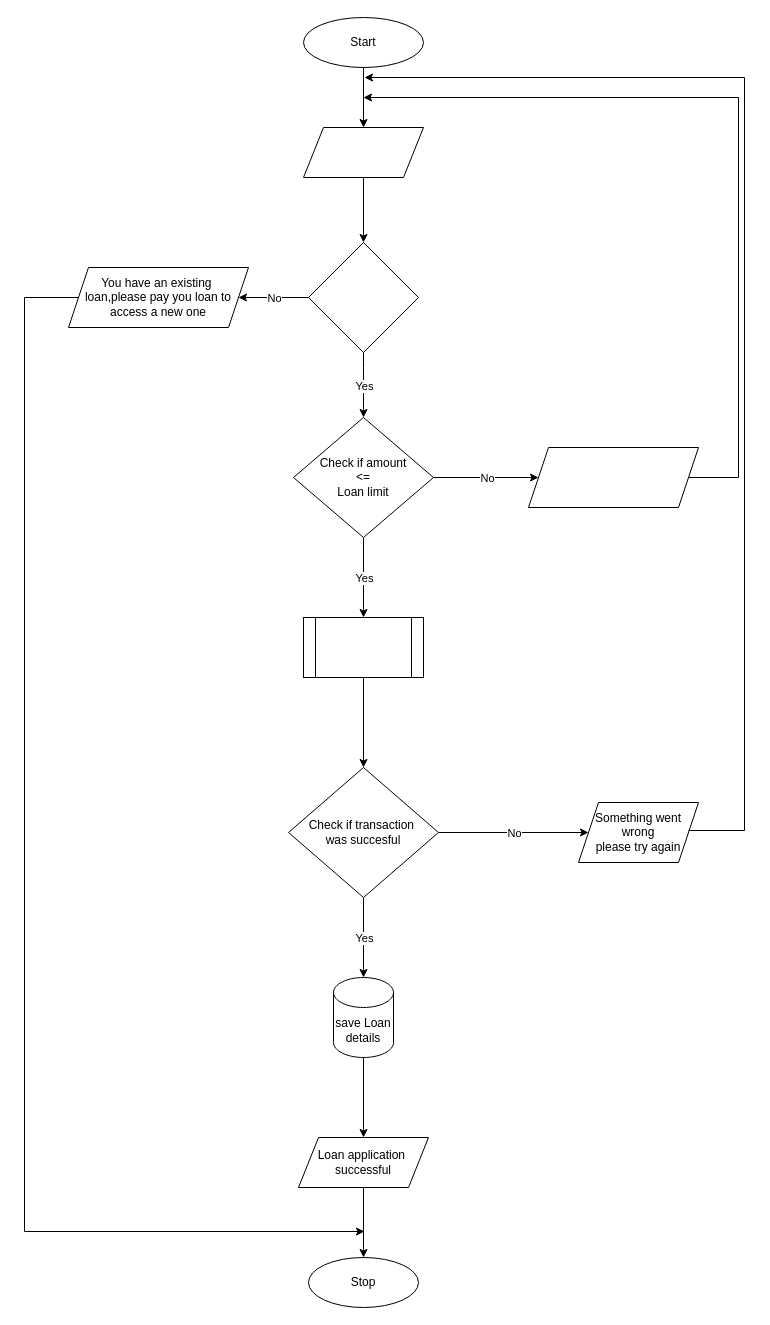
This 770x1325 diagram has some shape labels left out. Here are the shapes that lost their labels. From the top down, the centre of each, then its label:
pixel 363 152: Enter amount
pixel 363 297: Check if user has existing loan
pixel 613 477: Please enter an amount less than or equal to yourloan limit
pixel 363 647: Process transaction and transfer loan to users number
